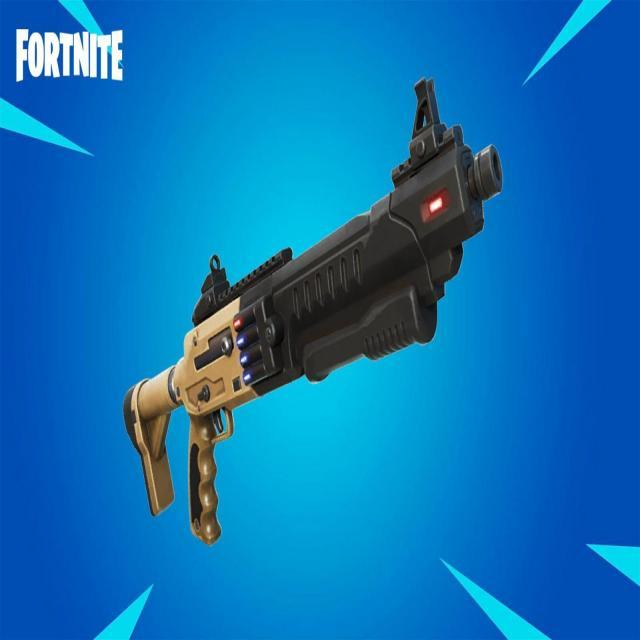rifle: (113, 128, 473, 546)
